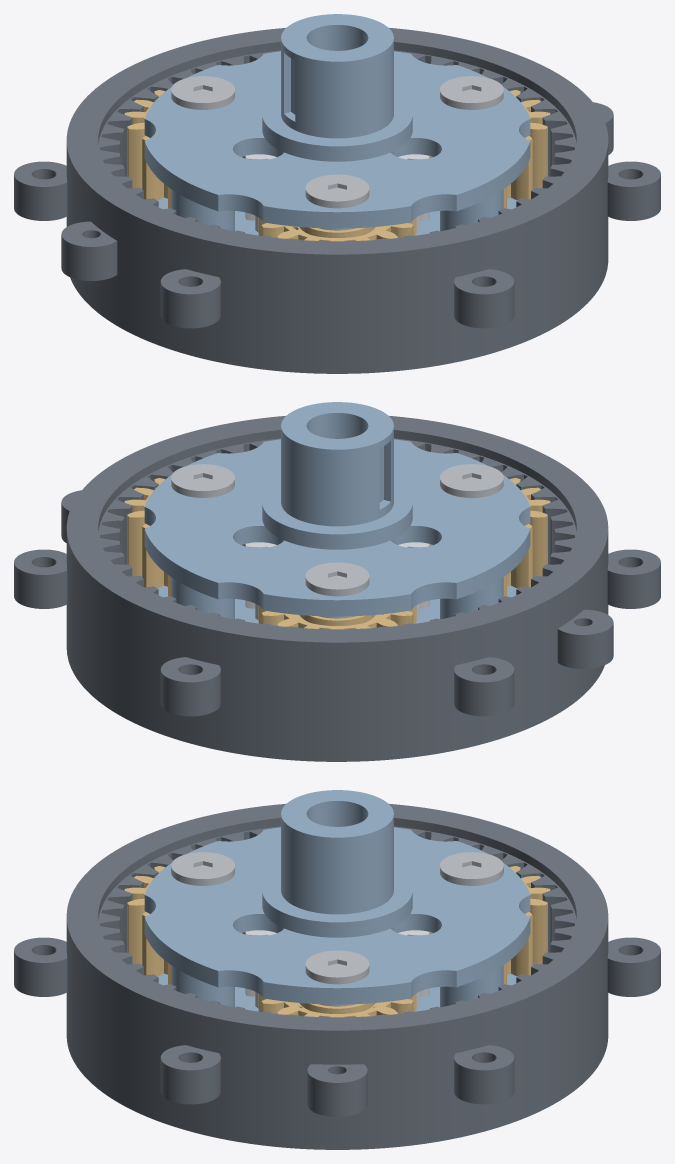
File: planetary-depth-repro.glb
3 renders of one model, top to bottom at view 1: azimuth 30°, elevation 25°; view 2: azimuth 150°, elevation 25°; view 3: azimuth 270°, elevation 25°, orthographic.
Parts seen in each view (by area): view 1: Ring Gear Housing, Planet Carrier, Planet Gear 1, Planet Gear 2, Planet Gear 3, Planet Pin 3, Planet Pin 1, Planet Pin 2, Sun Gear Input Shaft; view 2: Ring Gear Housing, Planet Carrier, Planet Gear 1, Planet Gear 3, Planet Gear 2, Planet Pin 2, Planet Pin 1, Planet Pin 3, Sun Gear Input Shaft; view 3: Ring Gear Housing, Planet Carrier, Planet Gear 2, Planet Gear 3, Planet Gear 1, Planet Pin 1, Planet Pin 2, Planet Pin 3, Sun Gear Input Shaft.
Part boxes in pixels (left/top/right/bottom): Ring Gear Housing: left=14, top=28, right=660, bottom=373; Planet Carrier: left=144, top=14, right=530, bottom=235; Planet Gear 1: left=429, top=90, right=550, bottom=208; Planet Gear 2: left=124, top=90, right=245, bottom=208; Planet Gear 3: left=258, top=218, right=416, bottom=241; Planet Pin 3: left=305, top=174, right=369, bottom=230; Planet Pin 1: left=440, top=76, right=503, bottom=109; Planet Pin 2: left=171, top=76, right=234, bottom=109; Sun Gear Input Shaft: left=245, top=154, right=429, bottom=232; Ring Gear Housing: left=14, top=416, right=660, bottom=761; Planet Carrier: left=144, top=402, right=530, bottom=623; Planet Gear 1: left=124, top=478, right=245, bottom=596; Planet Gear 3: left=429, top=478, right=550, bottom=596; Planet Gear 2: left=258, top=606, right=416, bottom=629; Planet Pin 2: left=305, top=562, right=369, bottom=618; Planet Pin 1: left=171, top=464, right=234, bottom=497; Planet Pin 3: left=440, top=464, right=503, bottom=497; Sun Gear Input Shaft: left=245, top=542, right=429, bottom=620; Ring Gear Housing: left=14, top=804, right=660, bottom=1149; Planet Carrier: left=144, top=790, right=530, bottom=1011; Planet Gear 2: left=429, top=866, right=550, bottom=984; Planet Gear 3: left=124, top=866, right=245, bottom=984; Planet Gear 1: left=258, top=994, right=416, bottom=1017; Planet Pin 1: left=305, top=950, right=369, bottom=1006; Planet Pin 2: left=440, top=852, right=503, bottom=885; Planet Pin 3: left=171, top=852, right=234, bottom=885; Sun Gear Input Shaft: left=245, top=930, right=429, bottom=1008.
Size of the model in its own units: 0.167 by 0.088 by 0.172.
